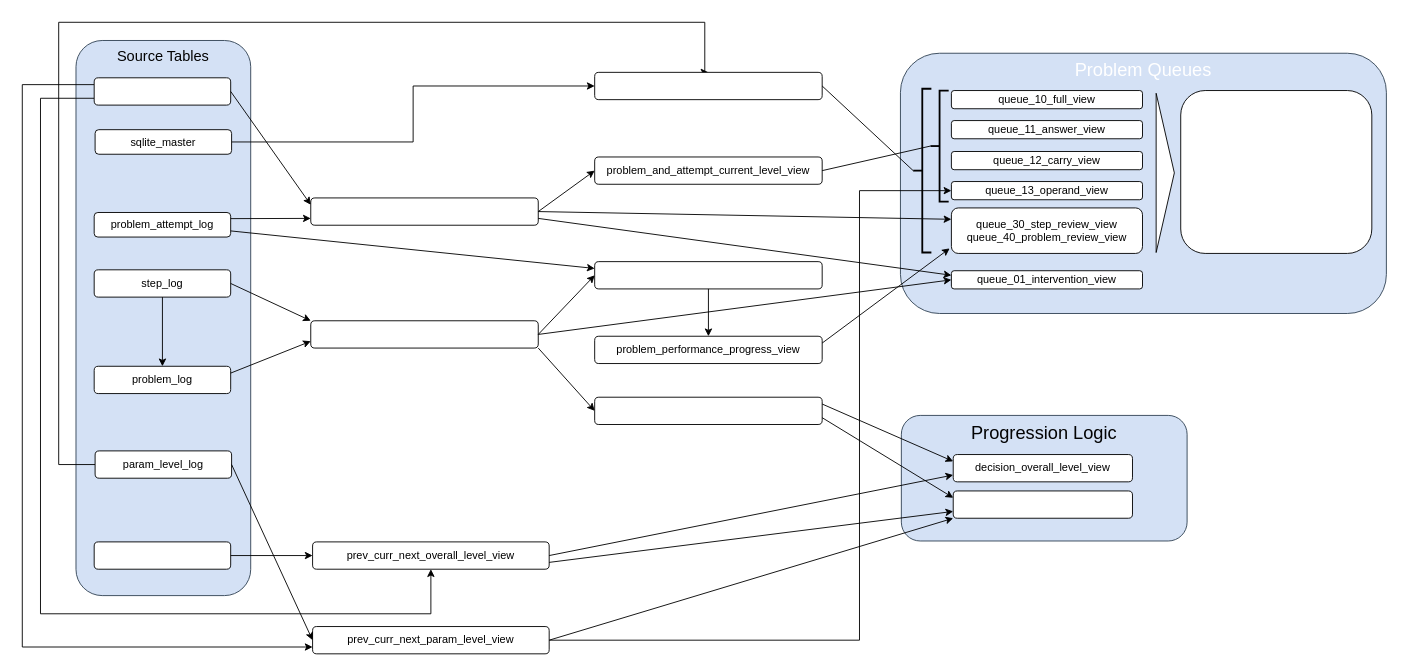
Some shapes in this 1402 by 671 pixel diagram are drawn without their labels. Each missing label, with the centre of its shape:
"decision_param_level_view" goes at pixel 1042 504.
"level_performance_view" goes at pixel 708 410.
"overall_level_log" goes at pixel 162 555.
"problem_and_attempt_combined_view" goes at pixel 424 211.
"problem_final" goes at pixel 162 91.
"problem_log_combined_view" goes at pixel 424 334.
"problem_performance_combined_view" goes at pixel 708 275.
"queue_all_view Randomized problems from all non-intervention queues" goes at pixel 1276 171.
"queue_proportion_view" goes at pixel 708 85.
